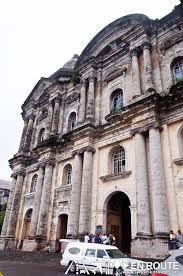taal_basilica_church_taal_batangas: (5, 6, 183, 258)
